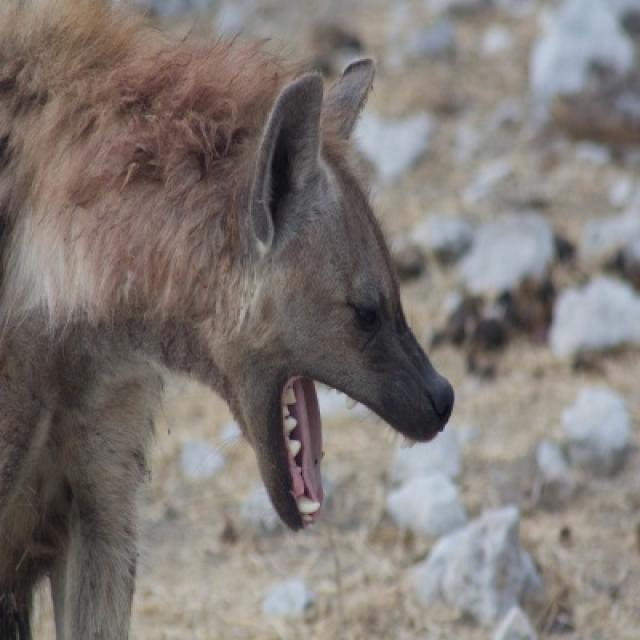hyena: (0, 0, 456, 638)
